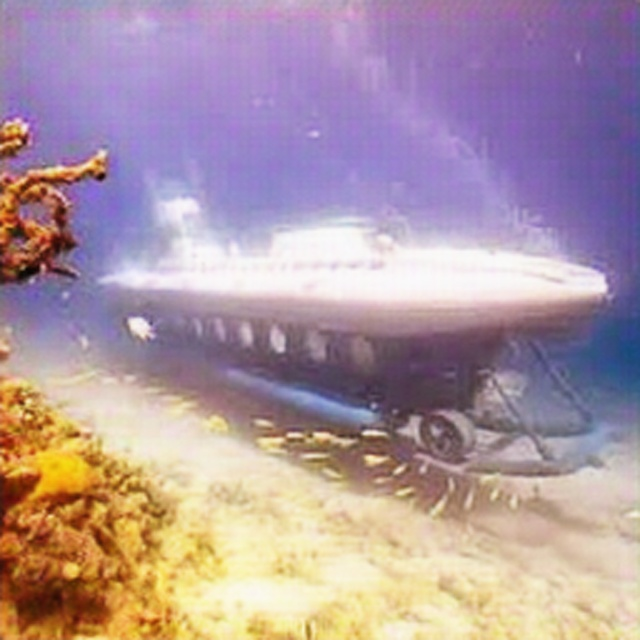submarine: (81, 183, 622, 500)
